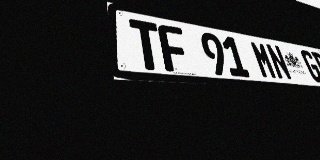1: (219, 35, 250, 77)
9: (199, 31, 231, 76)
F: (157, 24, 191, 73)
G: (299, 49, 320, 83)
M: (249, 40, 278, 79)
N: (265, 43, 293, 80)
P: (311, 51, 320, 84)
T: (129, 19, 165, 71)
